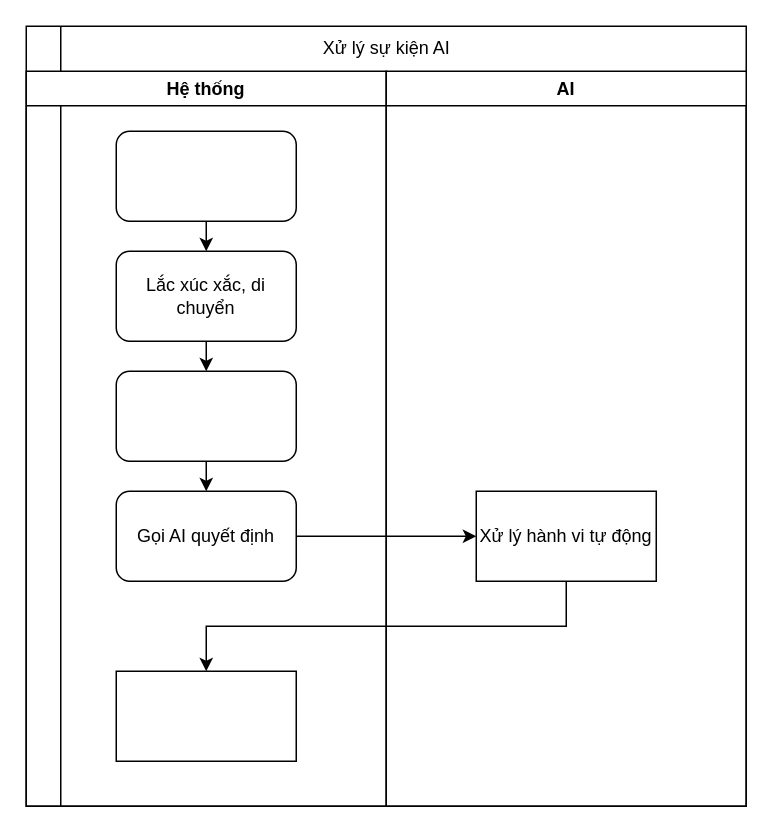
Image size: 773x833. Some labels were removed from this diagram. Each missing label, with the centre of its shape:
"Cập nhật tài sản, tiền" belongs at point 205,715.
"Tới lượt AI" belongs at point 205,175.
"Xác định ô đến" belongs at point 205,415.
